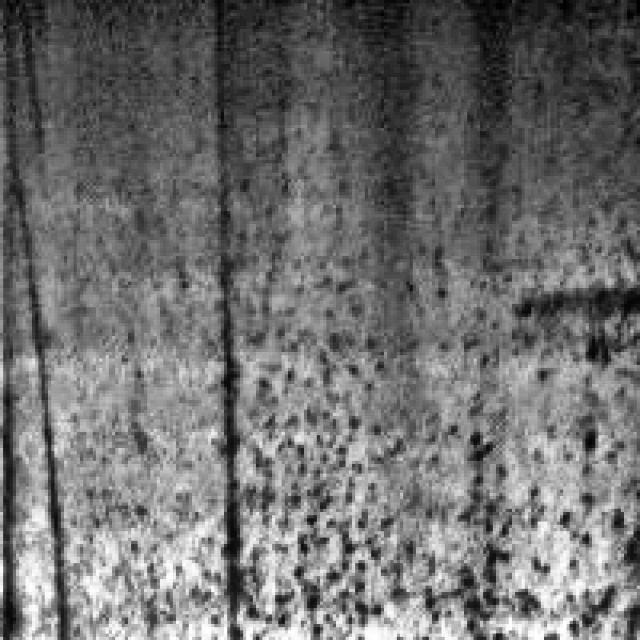Rolled_in_Scale: (93, 234, 637, 636)
